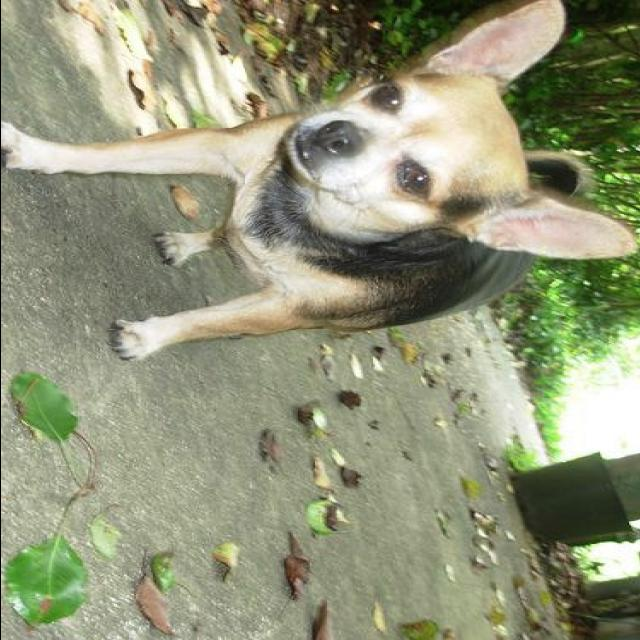chihuahua: (2, 0, 640, 365)
